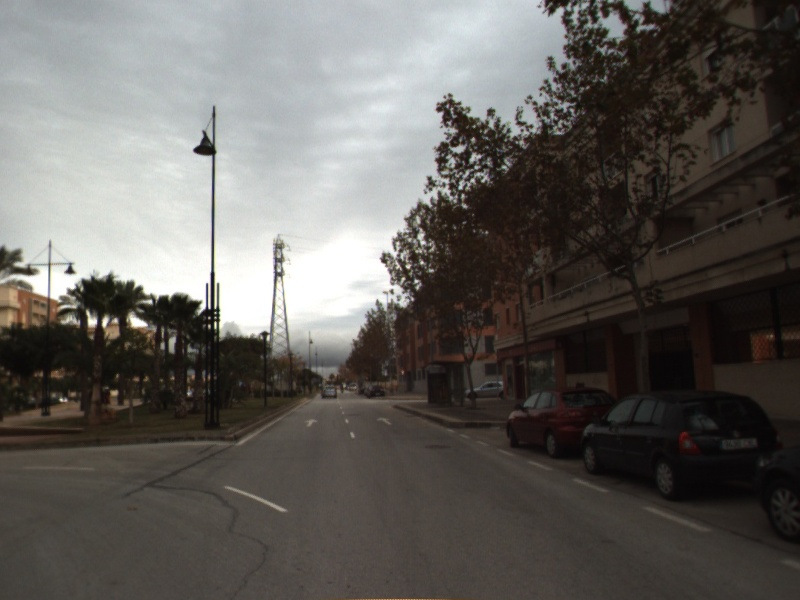STRAIGHT: (375, 415, 394, 427), (303, 416, 320, 429)
